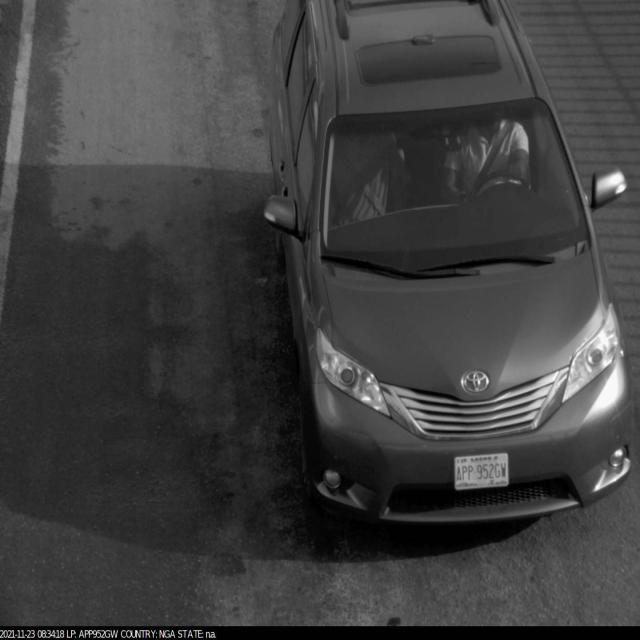windshield: (316, 97, 594, 295)
